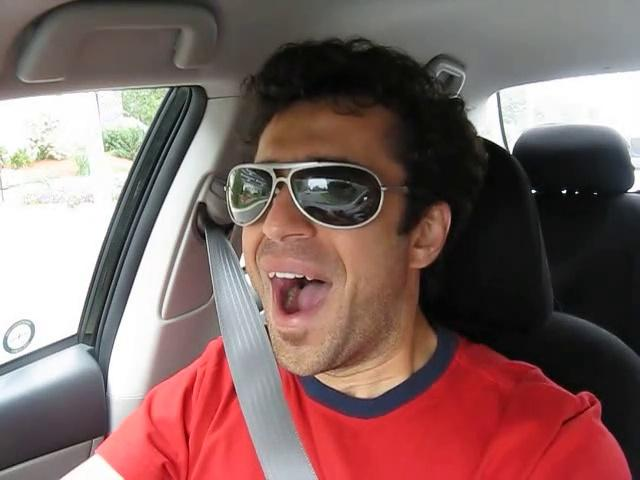yawn: (253, 260, 347, 329)
